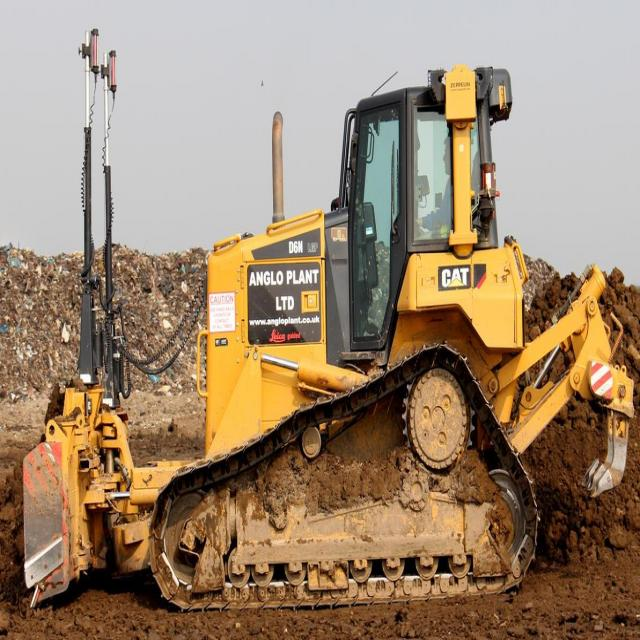Bulldozer: (17, 6, 638, 634)
